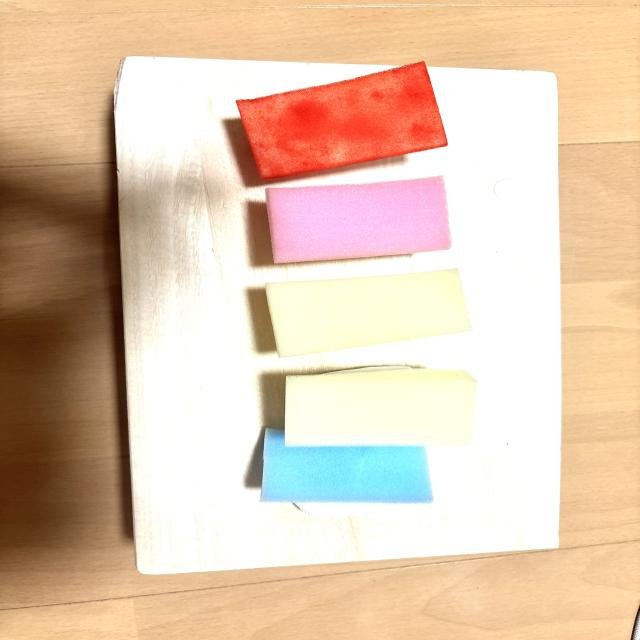NG: (261, 429, 433, 516)
salmon: (236, 62, 447, 179)
tai: (266, 176, 451, 263)
tamago: (266, 269, 471, 357), (285, 369, 477, 447)
